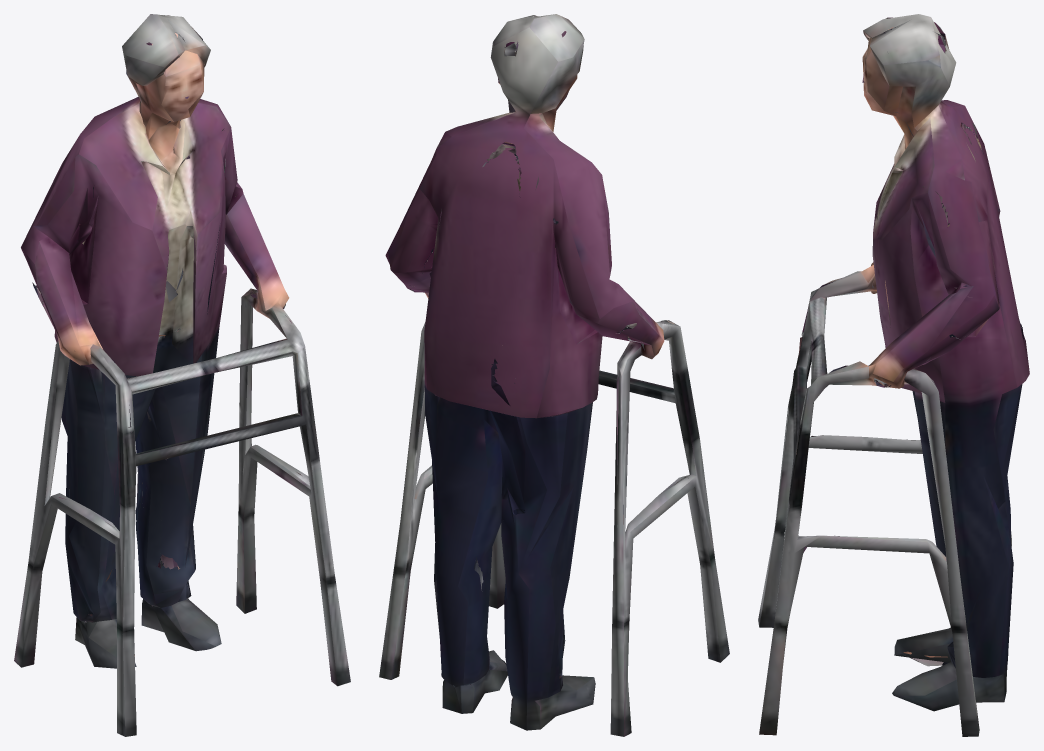
Rendered from person_06.glb.
The picture shows the model from 3 angles, left to right: view 1: azimuth 30°, elevation 25°; view 2: azimuth 150°, elevation 25°; view 3: azimuth 270°, elevation 25°; orthographic projection. The views are drawn at different scales.
Visible parts, largest first — view 1: Human_Rig; view 2: Human_Rig; view 3: Human_Rig.
Part boxes in pixels (x1=…): Human_Rig: x1=14, y1=14, x2=350, y2=736; Human_Rig: x1=379, y1=14, x2=729, y2=736; Human_Rig: x1=758, y1=14, x2=1029, y2=736.
Size of the model in its own units: 0.5923 by 1.55 by 0.5726.
1 material, 1 textured.
